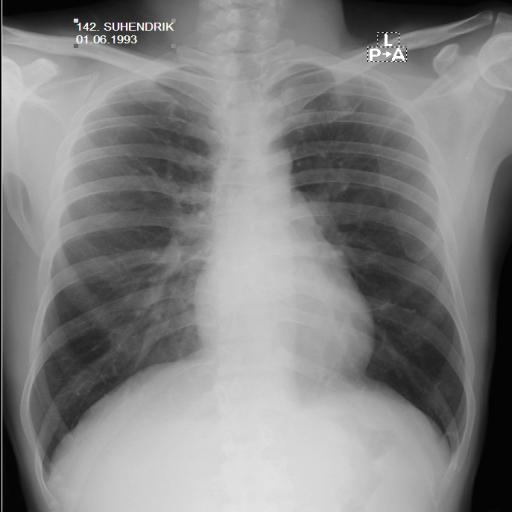normal: (26, 36, 478, 492)
